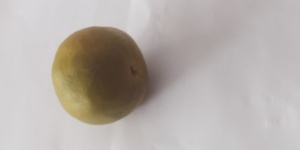BAD: (50, 24, 150, 130)
